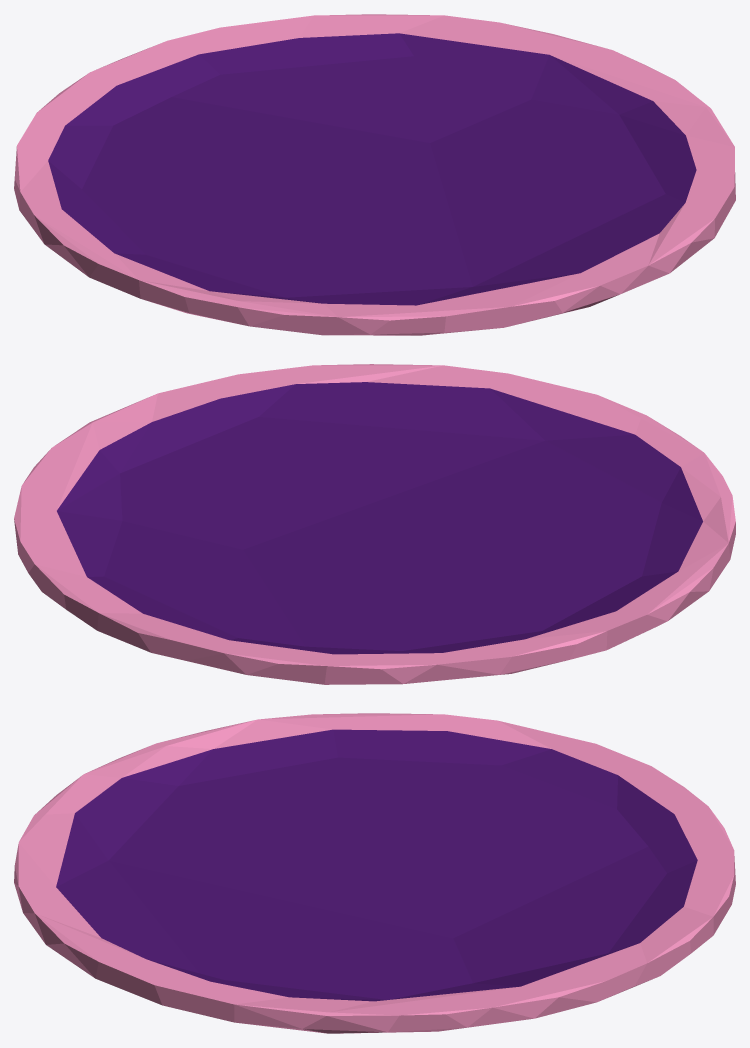
File: PlateBig03.fbx
The picture shows the model from 3 angles, top to bottom: view 1: azimuth 30°, elevation 25°; view 2: azimuth 150°, elevation 25°; view 3: azimuth 270°, elevation 25°; orthographic projection.
Parts seen in each view (by area): view 1: PlateBig03LowPoly; view 2: PlateBig03LowPoly; view 3: PlateBig03LowPoly.
Boxes of the visible parts, x1,y1,x2,y2 form: PlateBig03LowPoly: (14,14,735,335); PlateBig03LowPoly: (14,364,735,684); PlateBig03LowPoly: (14,713,735,1033).
Bounding box in the file's own units: 28.95 × 2.45 × 28.92.
